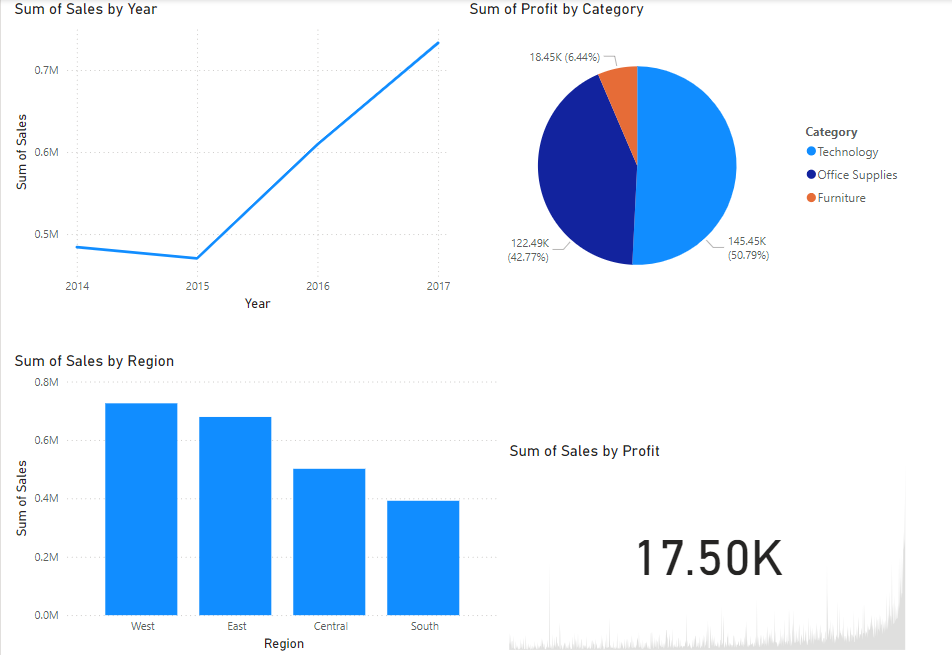

The page's visual inventory and layout, read from the dashboard file:
{"tool":"powerbi","page":{"name":"Page 1","canvas":[1280,720],"ordinal":0},"visuals":[{"type":"lineChart","fields":{"Category":["sales_data.Order Date.Variation.Date Hierarchy.Year","sales_data.Order Date.Variation.Date Hierarchy.Quarter","sales_data.Order Date.Variation.Date Hierarchy.Month","sales_data.Order Date.Variation.Date Hierarchy.Day"],"Y":["Sum(sales_data.Sales)"]},"box":[9.6,0,488.5,347.2],"z":0},{"type":"columnChart","fields":{"Y":["Sum(sales_data.Sales)"],"Category":["sales_data.Region"]},"box":[9.6,387,543.4,333.4],"z":1000},{"type":"pieChart","fields":{"Category":["sales_data.Category"],"Y":["Sum(sales_data.Profit)"]},"box":[509,0,489,347],"z":2000},{"type":"kpi","fields":{"Indicator":["Sum(sales_data.Sales)"],"TrendLine":["sales_data.Profit"]},"box":[553,486,445,234],"z":3000}]}

Visuals, with their boxes on the page's 1280x720 design canvas (x1, y1, x2, y2). These are canvas units, not pixel positions in the 952x655 screenshot, which may show the page scaled, cropped or inside an application window:
lineChart - sales_data.Order Date.Variation.Date Hierarchy.Year x sales_data.Order Date.Variation.Date Hierarchy.Quarter: x1=10 y1=0 x2=498 y2=347
columnChart - Sum(sales_data.Sales) x sales_data.Region: x1=10 y1=387 x2=553 y2=720
pieChart - sales_data.Category x Sum(sales_data.Profit): x1=509 y1=0 x2=998 y2=347
kpi - Sum(sales_data.Sales) x sales_data.Profit: x1=553 y1=486 x2=998 y2=720
